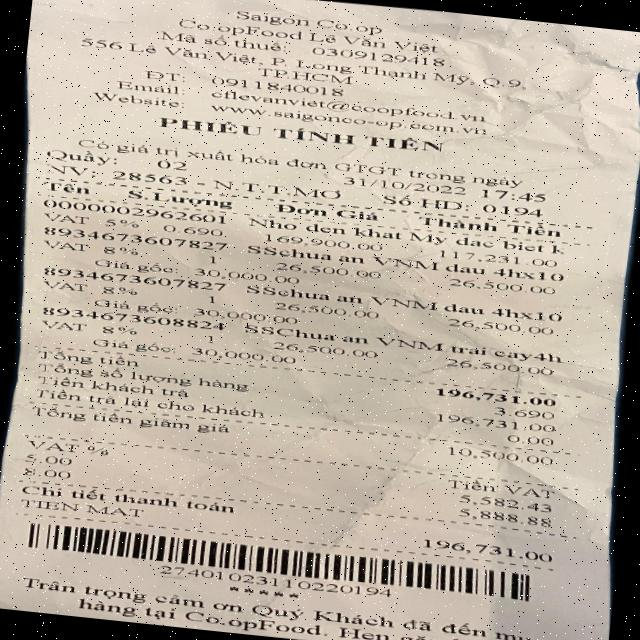Date: (311, 169, 478, 200)
Store_Name: (189, 0, 420, 43)
amount_number: (432, 385, 558, 409)
label_total: (33, 347, 144, 369)
